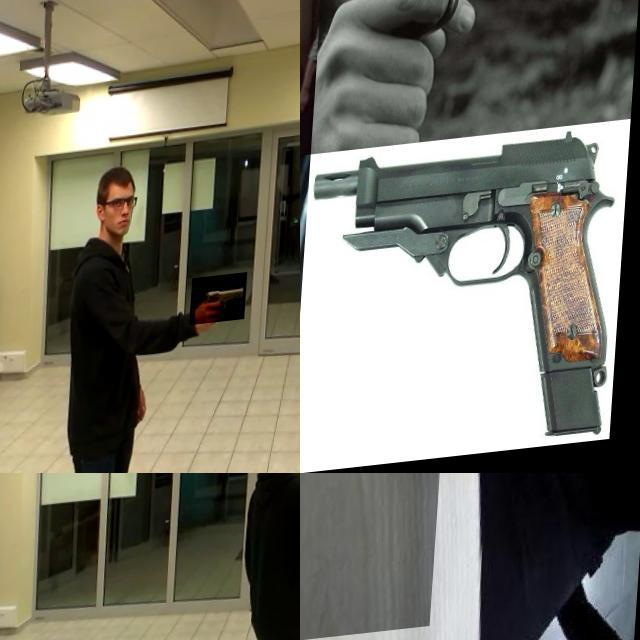-: (300, 473, 465, 640)
gun-knife-thesis - v11 Yolov5 augmented: (300, 135, 631, 470), (328, 0, 577, 159), (300, 222, 347, 451), (300, 0, 349, 167), (195, 280, 252, 332)
